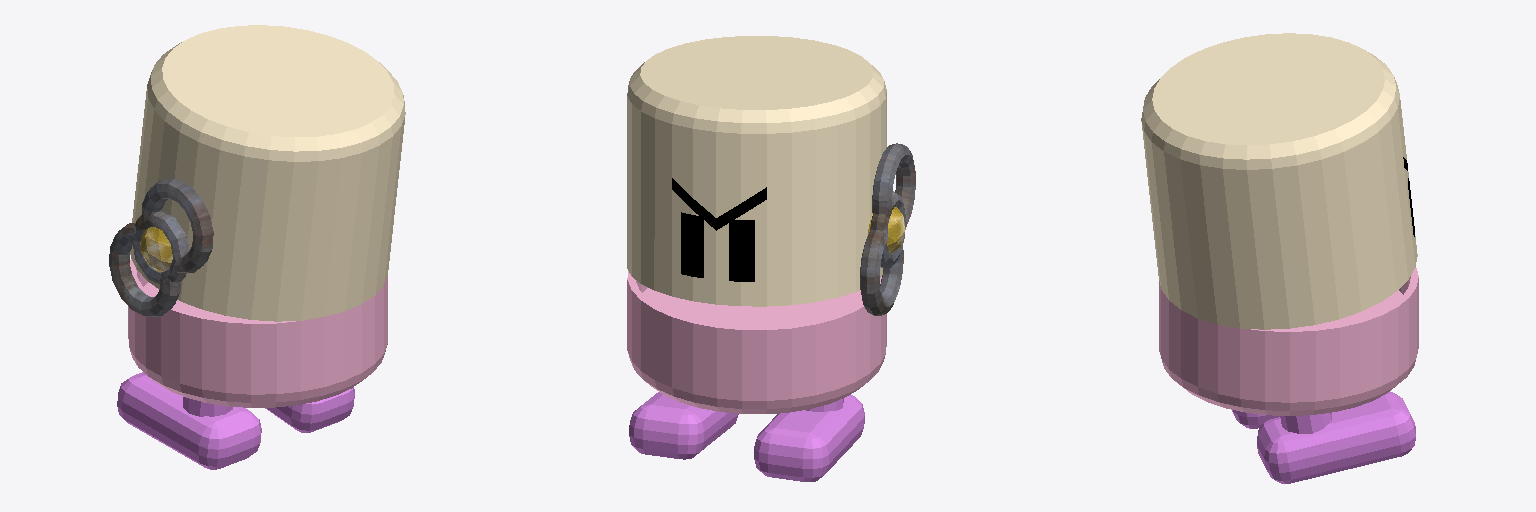
3 views of the same model, side by side, from view 1: azimuth 30°, elevation 25°; view 2: azimuth 150°, elevation 25°; view 3: azimuth 270°, elevation 25° (orthographic).
Visible parts, largest first — view 1: Head, Jaw, WindupKey, LeftLeg, RightLeg; view 2: Head, Jaw, LeftLeg, WindupKey, RightLeg; view 3: Head, Jaw, RightLeg.
Part boxes in pixels (x1,y1,x2,y2): Head: (130, 25, 405, 321); Jaw: (128, 259, 387, 407); WindupKey: (109, 179, 213, 316); LeftLeg: (117, 372, 261, 469); RightLeg: (265, 387, 354, 432); Head: (627, 36, 886, 306); Jaw: (627, 271, 886, 413); LeftLeg: (754, 395, 864, 481); WindupKey: (860, 143, 915, 315); RightLeg: (629, 392, 738, 459); Head: (1141, 33, 1417, 329); Jaw: (1159, 268, 1418, 415); RightLeg: (1257, 392, 1415, 483).
Bounding box in the file's own units: 114 × 158 × 107.
Materials: 6 (2 with a texture image).